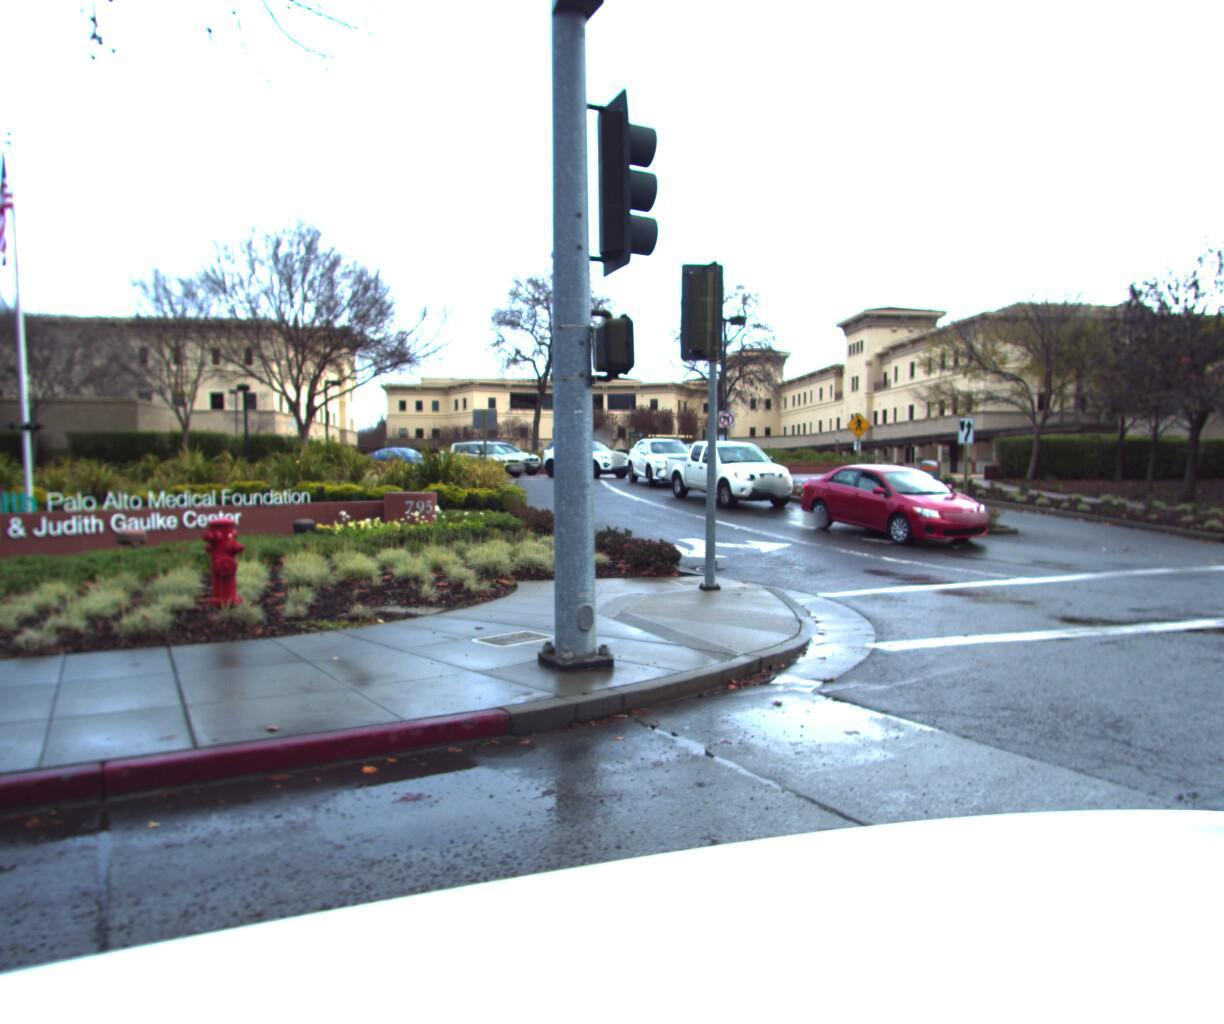car: (788, 461, 1020, 548), (656, 438, 813, 509), (624, 439, 722, 487), (540, 441, 648, 479), (433, 441, 529, 478), (451, 443, 546, 476)
